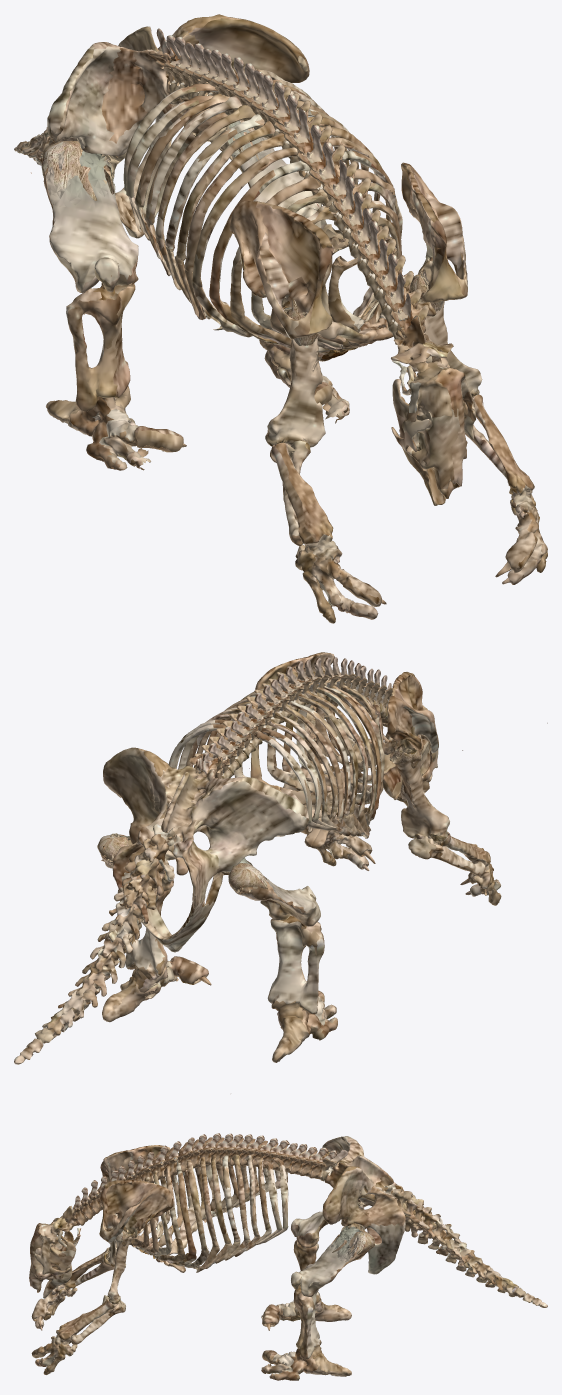
File: EREMOTHERIUM GG.glb
3 renders of one model, top to bottom at view 1: azimuth 30°, elevation 25°; view 2: azimuth 150°, elevation 25°; view 3: azimuth 270°, elevation 25°, orthographic. The views are drawn at different scales.
Visible parts, largest first — view 1: CABEZA2; view 2: CABEZA2; view 3: CABEZA2.
Part boxes in pixels (x1,y1,x2,y2): CABEZA2: (14, 14, 547, 623); CABEZA2: (14, 652, 547, 1064); CABEZA2: (29, 1133, 547, 1380).
Bounding box in the file's own units: 1.94 × 1.92 × 4.31.
1 material, 1 textured.
